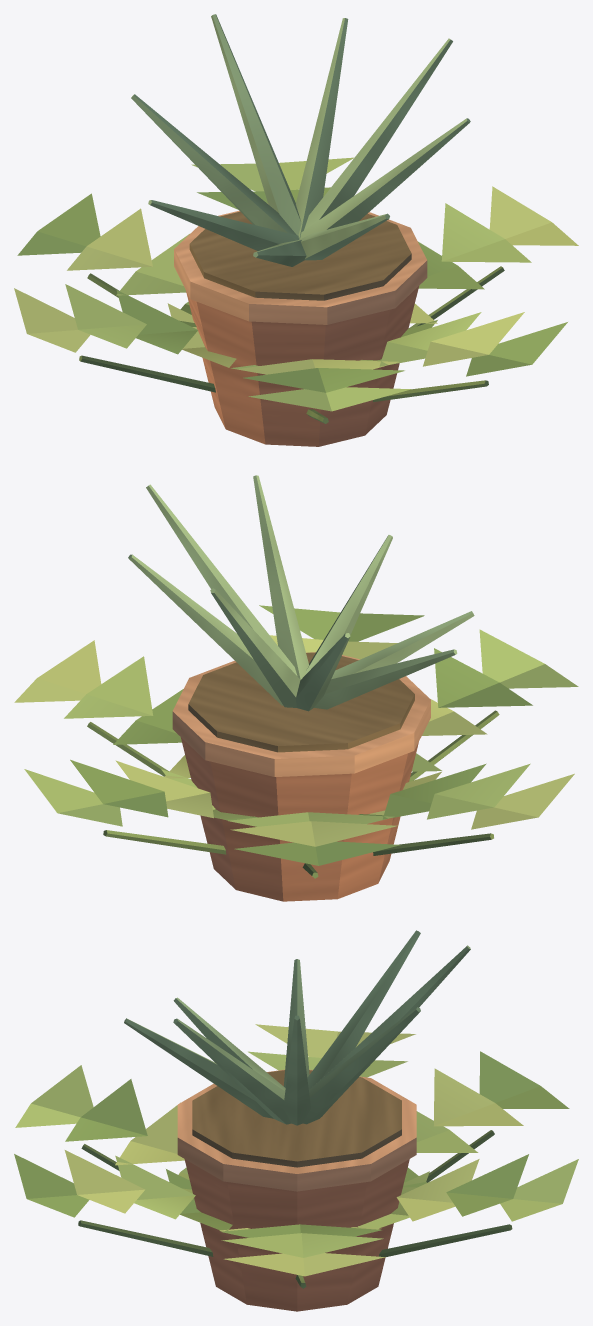
The model's file is furniture_fern.glb.
The picture shows the model from 3 angles, top to bottom: view 1: azimuth 30°, elevation 25°; view 2: azimuth 150°, elevation 25°; view 3: azimuth 270°, elevation 25°; orthographic projection. The views are drawn at different scales.
Parts seen in each view (by area): view 1: Farntopf; view 2: Farntopf; view 3: Farntopf.
Part boxes in pixels (bbox=[...]): Farntopf: bbox=[14, 14, 578, 446]; Farntopf: bbox=[14, 475, 578, 901]; Farntopf: bbox=[14, 930, 578, 1311].
Bounding box in the file's own units: 1.38 × 0.8746 × 1.35.
Materials: 3 (2 with a texture image).
